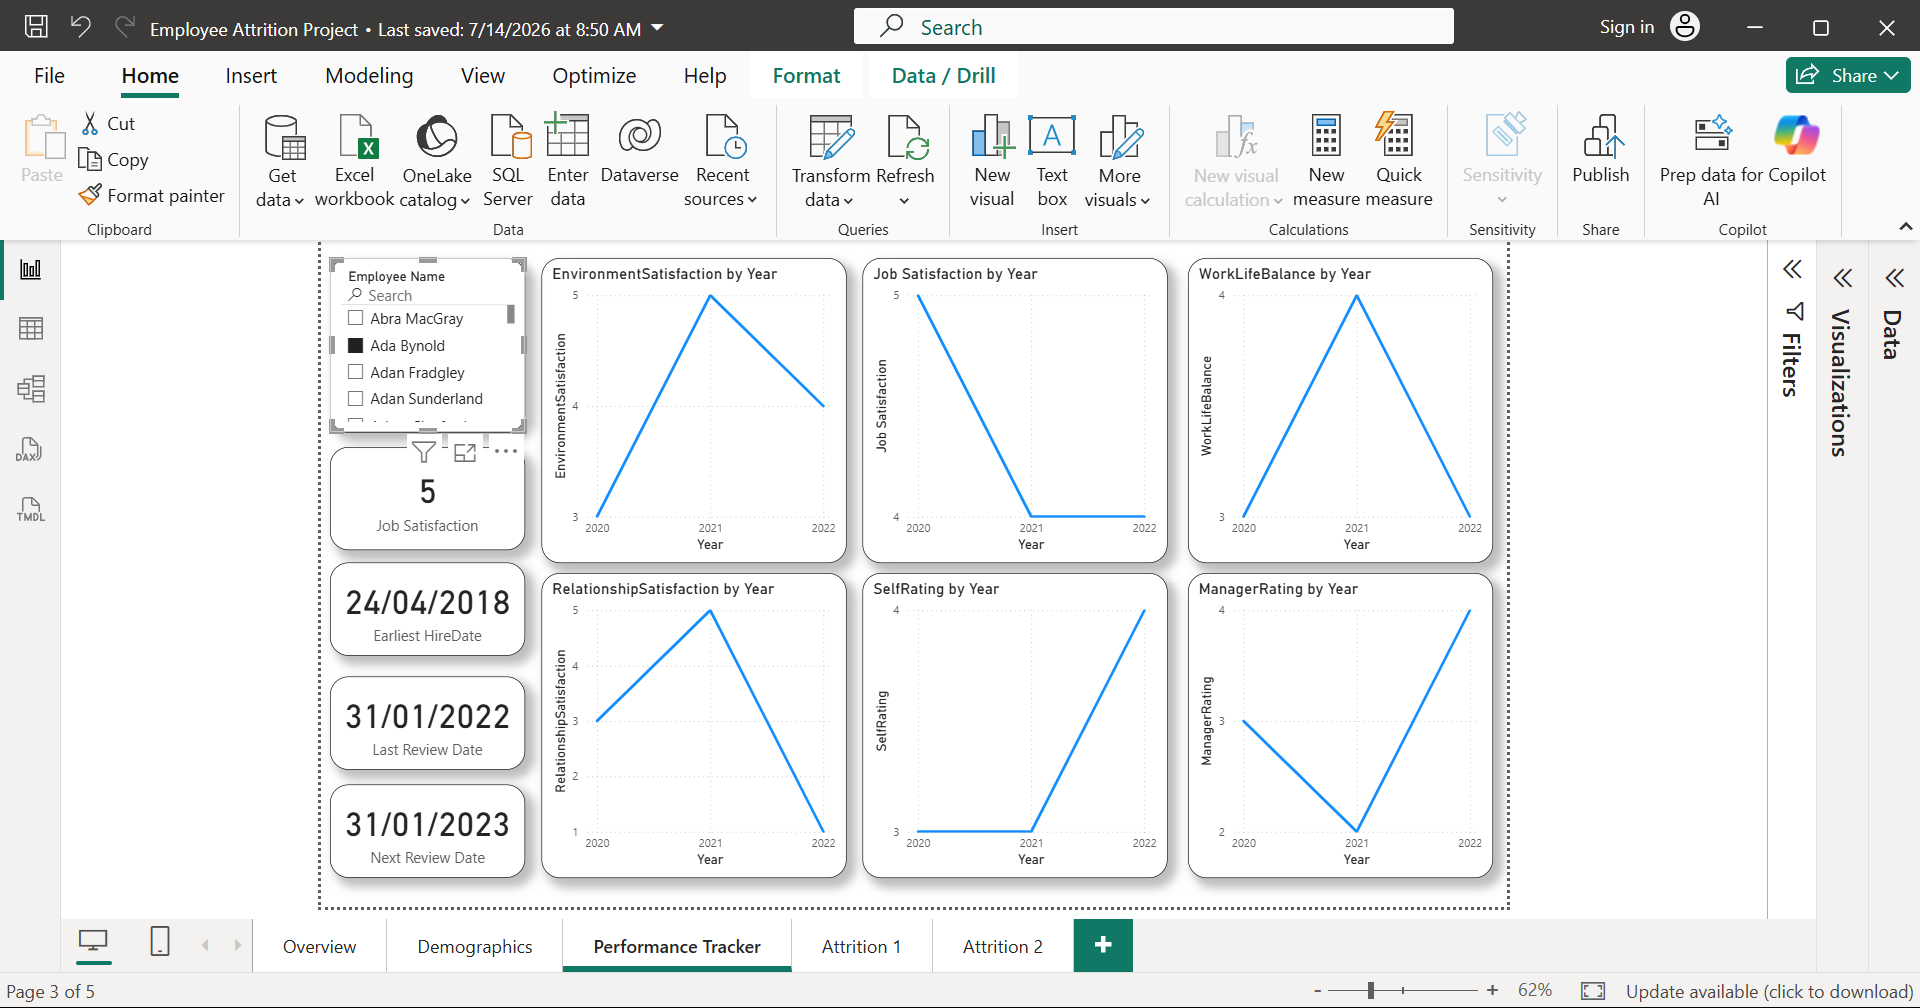

Layout of this report page (visuals, bound fields, positions):
{"tool":"powerbi","page":{"name":"Performance Tracker","canvas":[1280,720],"ordinal":3},"visuals":[{"type":"listSlicer","title":"Full Name","fields":{"Values":["DimEmployee.Full name"]},"box":[16.2,93.9,283.4,285],"z":0},{"type":"card","fields":{"Values":["Max(DimEmployee.HireDate)"]},"box":[16.2,395.1,251,100.4],"z":1000},{"type":"lineChart","fields":{"Category":["DimDate.Date.Variation.Date Hierarchy.Year"],"Y":["Calmeasures.selfRating"]},"box":[772.4,406.4,495.5,314.1],"z":2000},{"type":"lineChart","fields":{"Y":["Calmeasures.RelationshipSatisfaction"],"Category":["DimDate.Date.Variation.Date Hierarchy.Year"]},"box":[772.4,93.9,495.5,285],"z":3000},{"type":"lineChart","fields":{"Category":["DimDate.Date.Variation.Date Hierarchy.Year"],"Y":["Calmeasures.ManagerRating"]},"box":[317.4,406.4,432.3,314.1],"z":4000},{"type":"card","fields":{"Values":["Calmeasures.Attrition"]},"box":[16.2,514.9,251,97.2],"z":5000},{"type":"lineChart","fields":{"Category":["DimDate.Date.Variation.Date Hierarchy.Year"],"Y":["Calmeasures.JobSatisfaction"]},"box":[317.4,93.9,432.3,285],"z":6000},{"type":"card","fields":{"Values":["Calmeasures.Overtime"]},"box":[16.2,623.4,251,97.2],"z":7000},{"type":"textbox","box":[16.2,0,1264.6,81],"z":8000},{"type":"actionButton","box":[1067.1,40.5,100.4,40.5],"z":9000},{"type":"actionButton","box":[1180.4,40.5,100.4,40.5],"z":10000}]}

Visuals, with their boxes on the page's 1280x720 design canvas (x1, y1, x2, y2). These are canvas units, not pixel positions in the 1920x1008 screenshot, which may show the page scaled, cropped or inside an application window:
"Full Name" listSlicer: Rect(16, 94, 300, 379)
card - Max(DimEmployee.HireDate): Rect(16, 395, 267, 496)
lineChart - DimDate.Date.Variation.Date Hierarchy.Year x Calmeasures.selfRating: Rect(772, 406, 1268, 720)
lineChart - Calmeasures.RelationshipSatisfaction x DimDate.Date.Variation.Date Hierarchy.Year: Rect(772, 94, 1268, 379)
lineChart - DimDate.Date.Variation.Date Hierarchy.Year x Calmeasures.ManagerRating: Rect(317, 406, 750, 720)
card - Calmeasures.Attrition: Rect(16, 515, 267, 612)
lineChart - DimDate.Date.Variation.Date Hierarchy.Year x Calmeasures.JobSatisfaction: Rect(317, 94, 750, 379)
card - Calmeasures.Overtime: Rect(16, 623, 267, 721)
textbox: Rect(16, 0, 1281, 81)
actionButton: Rect(1067, 40, 1168, 81)
actionButton: Rect(1180, 40, 1281, 81)
